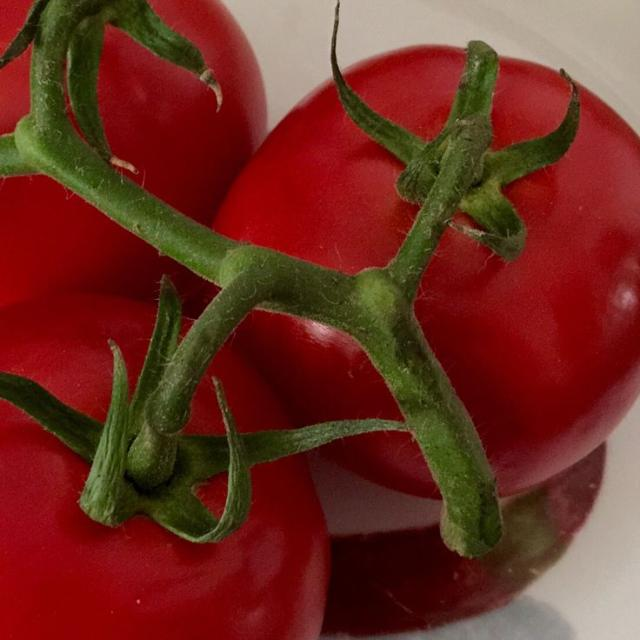tomato: (415, 89, 639, 494), (0, 402, 328, 639), (99, 0, 266, 224)
